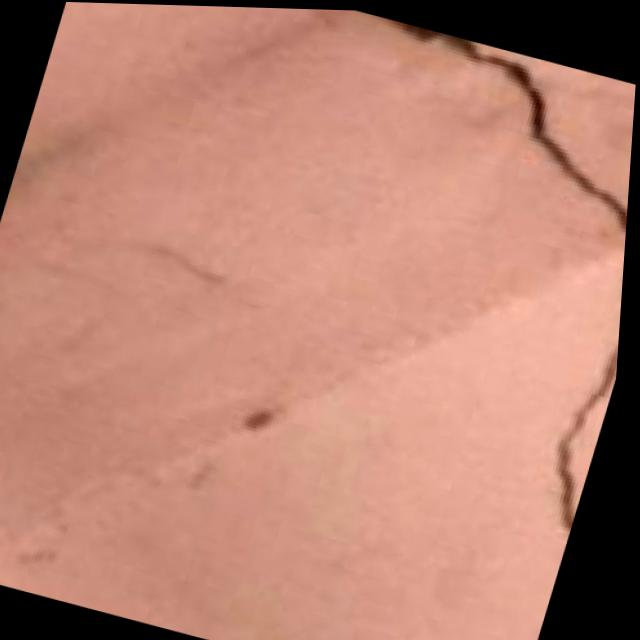Crack: (241, 9, 640, 537)
